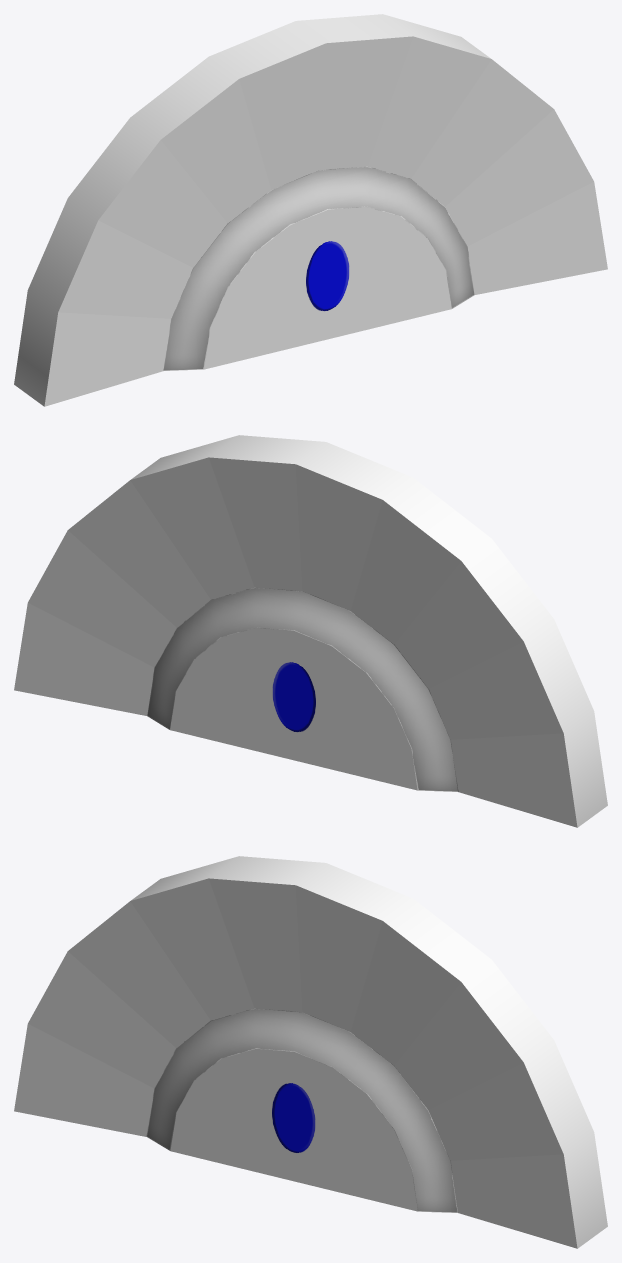
The model's file is SM_Orb_Door.fbx.
3 renders of one model, top to bottom at view 1: azimuth 30°, elevation 25°; view 2: azimuth 150°, elevation 25°; view 3: azimuth 330°, elevation 25°, orthographic.
Visible parts, largest first — view 1: pCylinder1; view 2: pCylinder1; view 3: pCylinder1.
Boxes of the visible parts, <box> form: pCylinder1: <box>14,14,607,406</box>; pCylinder1: <box>14,435,607,827</box>; pCylinder1: <box>14,856,607,1248</box>.
Bounding box in the file's own units: 11.45 × 5.73 × 1.2.
Materials: 1 (1 with a texture image).
